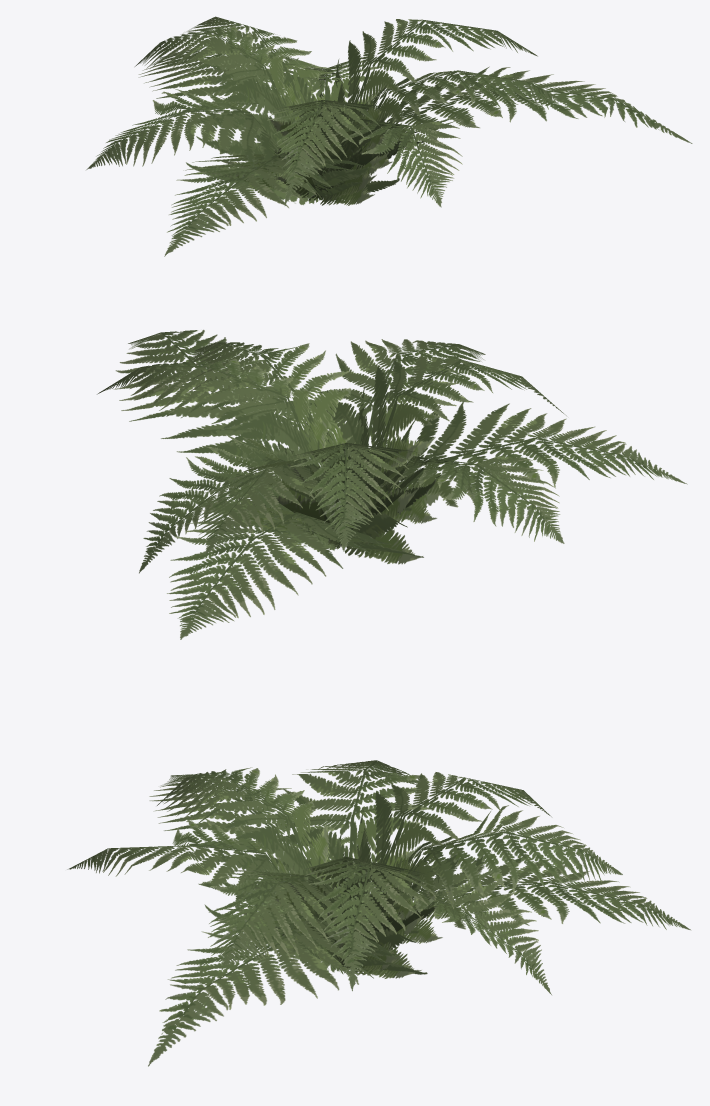
The picture shows the model from 3 angles, top to bottom: view 1: azimuth 30°, elevation 25°; view 2: azimuth 150°, elevation 25°; view 3: azimuth 270°, elevation 25°; orthographic projection. The views are drawn at different scales.
Parts seen in each view (by area): view 1: Object_2; view 2: Object_2; view 3: Object_2.
Boxes of the visible parts, <box> form: Object_2: <box>86,16,692,256</box>; Object_2: <box>97,329,687,639</box>; Object_2: <box>67,760,691,1066</box>.
Bounding box in the file's own units: 2.6 × 0.6654 × 2.3.
Materials: 1 (1 with a texture image).
